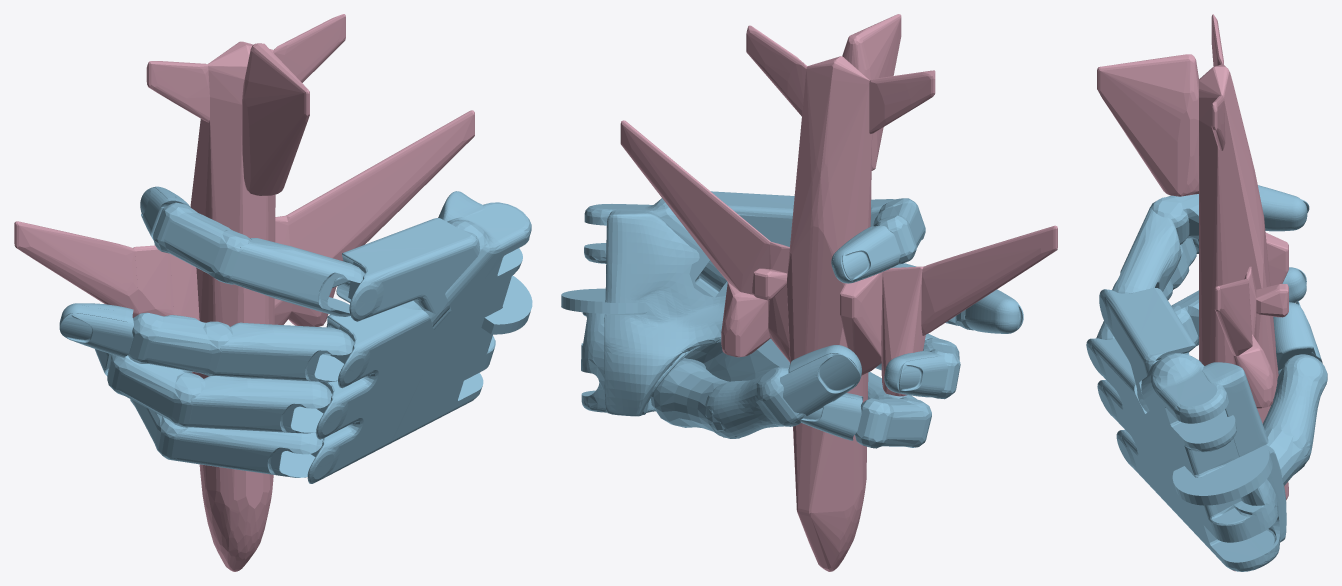
3 renders of one model, left to right at view 1: azimuth 30°, elevation 25°; view 2: azimuth 150°, elevation 25°; view 3: azimuth 270°, elevation 25°, orthographic. The views are drawn at different scales.
Parts seen in each view (by area): view 1: hand_isaac_q, world; view 2: world, hand_isaac_q; view 3: hand_isaac_q, world.
Part boxes in pixels (<box>): hand_isaac_q: <box>59,186,532,483</box>; world: <box>14,14,474,571</box>; world: <box>620,14,1057,571</box>; hand_isaac_q: <box>561,191,1023,448</box>; hand_isaac_q: <box>1086,185,1327,571</box>; world: <box>1097,14,1288,571</box>.
Bounding box in the file's own units: 0.2168 × 0.2206 × 0.0935.
